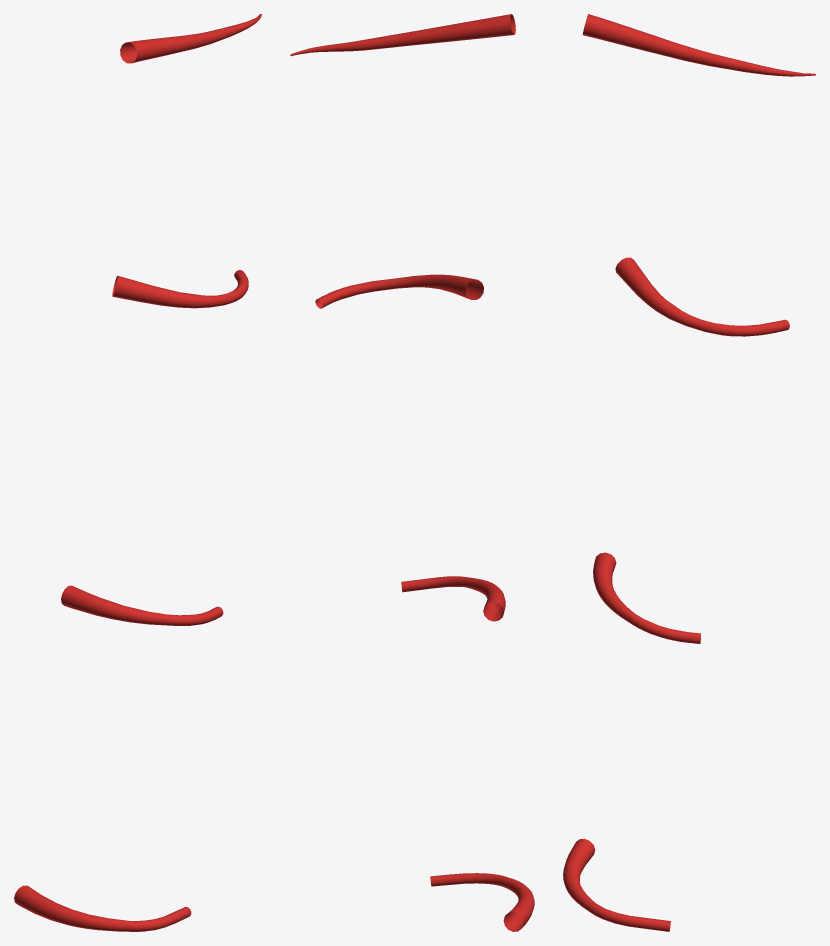
The model's file is circulatorio-perforating-femoral-arteries-l.glb.
The picture shows the model from 3 angles, left to right: view 1: azimuth 30°, elevation 25°; view 2: azimuth 150°, elevation 25°; view 3: azimuth 330°, elevation 25°; orthographic projection. The views are drawn at different scales.
Parts seen in each view (by area): view 1: Perforating femoral arteries.l; view 2: Perforating femoral arteries.l; view 3: Perforating femoral arteries.l.
Part boxes in pixels (x1,y1,x2,y2): Perforating femoral arteries.l: (14,14,261,931); Perforating femoral arteries.l: (290,14,534,931); Perforating femoral arteries.l: (563,14,815,931).
Size of the model in its own units: 0.0515 by 0.1822 by 0.0216.
